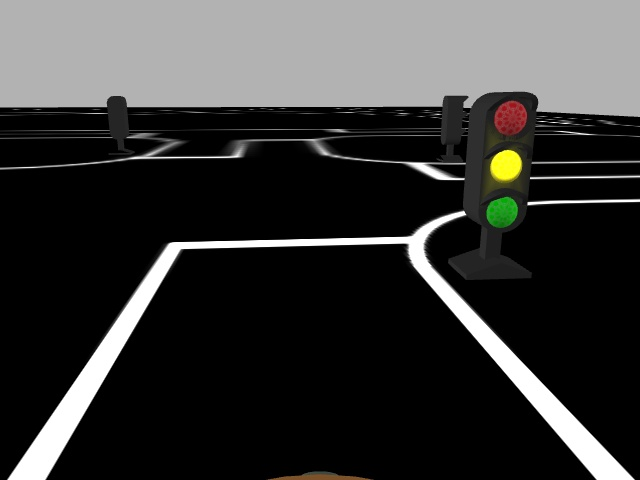yellow_light: (475, 91, 538, 233)
